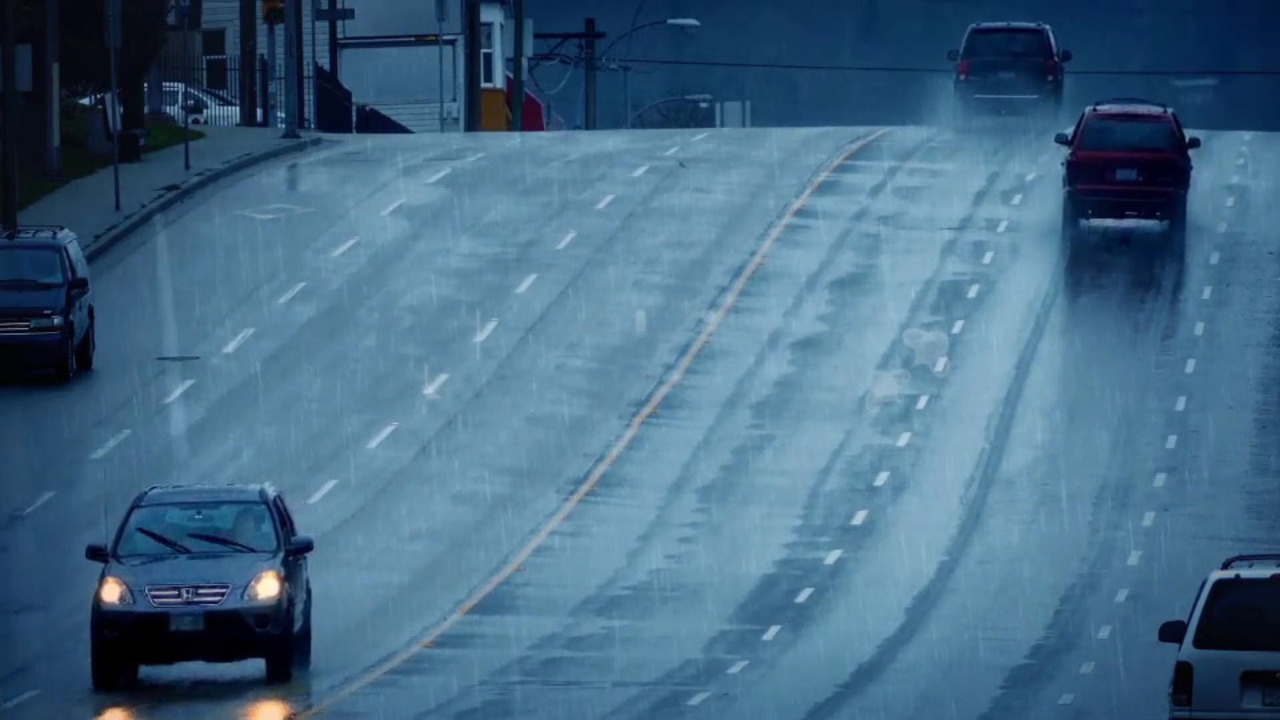car: (90, 486, 309, 691), (1060, 101, 1198, 246), (0, 225, 99, 388), (1156, 548, 1252, 675), (950, 21, 1066, 104)
